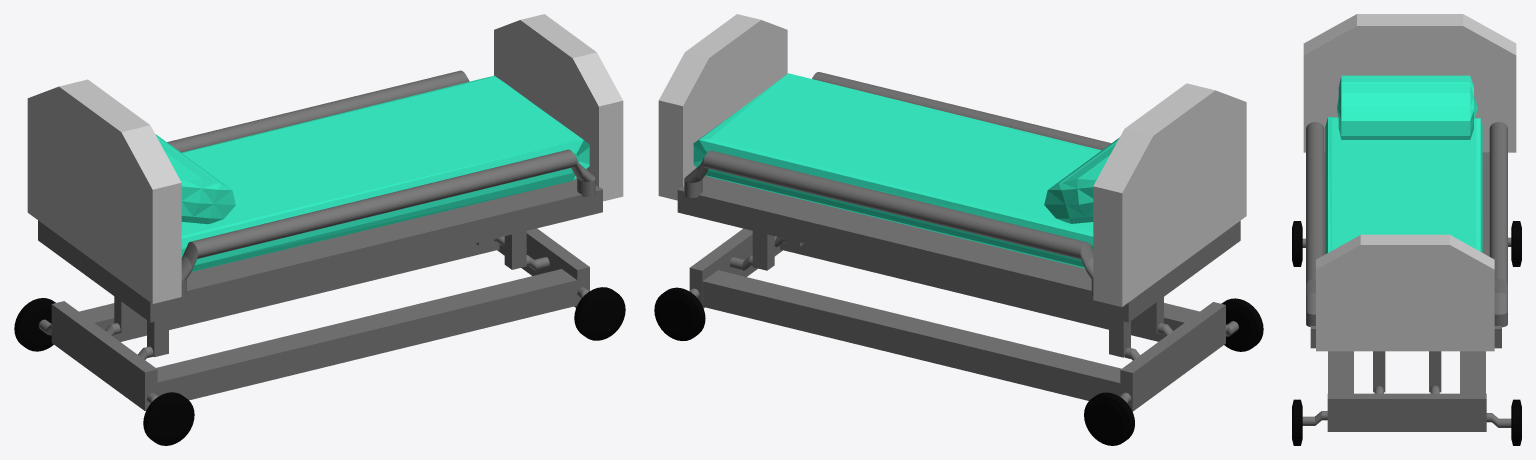
File: kasurRM.obj
The picture shows the model from 3 angles, left to right: view 1: azimuth 30°, elevation 25°; view 2: azimuth 150°, elevation 25°; view 3: azimuth 270°, elevation 25°; orthographic projection. The views are drawn at different scales.
Visible parts, largest first — view 1: Cube.011, Cube.009, Cube.008, Cube.002, Cube.010, Cube.013, Cube.003, Cylinder.013, Cylinder.012, Cube.012, Cylinder.015, Cylinder.003 (+7 smaller); view 2: Cube.011, Cube.009, Cube.008, Cube.003, Cube.010, Cube.013, Cube.002, Cylinder.015, Cylinder.014, Cube.012, Cylinder.002, Cylinder.001 (+6 smaller); view 3: Cube.010, Cube.011, Cube.009, Cube.012, Cube.001, Cylinder.015, Cylinder.013, Cylinder.012, Cylinder.014, Cube.008, Cube.003, Cube.002 (+8 smaller).
Part boxes in pixels (x1,y1,x2,y2): Cube.011: (181,75,589,271); Cube.009: (27,79,181,303); Cube.008: (38,177,602,322); Cube.002: (154,269,577,400); Cube.010: (494,14,623,201); Cube.013: (51,301,157,410); Cube.003: (79,241,499,341); Cylinder.013: (380,149,595,212); Cylinder.012: (181,195,387,296); Cube.012: (155,134,235,224); Cylinder.015: (272,70,469,128); Cylinder.003: (574,287,625,340); Cube.011: (693,73,1101,268); Cube.009: (1093,83,1246,306); Cube.008: (677,175,1240,322); Cube.003: (702,270,1121,400); Cube.010: (658,14,787,200); Cube.013: (1120,302,1225,411); Cube.002: (780,242,1199,341); Cylinder.015: (684,150,899,213); Cylinder.014: (892,196,1093,295); Cube.012: (1044,137,1119,223); Cylinder.002: (654,287,705,340); Cylinder.001: (1084,392,1134,445); Cube.010: (1316,234,1494,351); Cube.011: (1325,117,1482,254); Cube.009: (1303,14,1516,152); Cube.012: (1337,75,1477,139); Cube.001: (1327,393,1486,431); Cylinder.015: (1489,200,1507,327); Cylinder.013: (1306,200,1324,326); Cylinder.012: (1306,122,1324,206); Cylinder.014: (1489,122,1507,206); Cube.008: (1310,152,1501,348); Cube.003: (1460,351,1485,393); Cube.002: (1328,351,1353,393).
Bounding box in the file's own units: 10.38 × 5.86 × 4.96.
